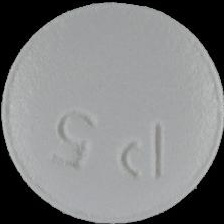43547-280: (0, 0, 224, 224)
